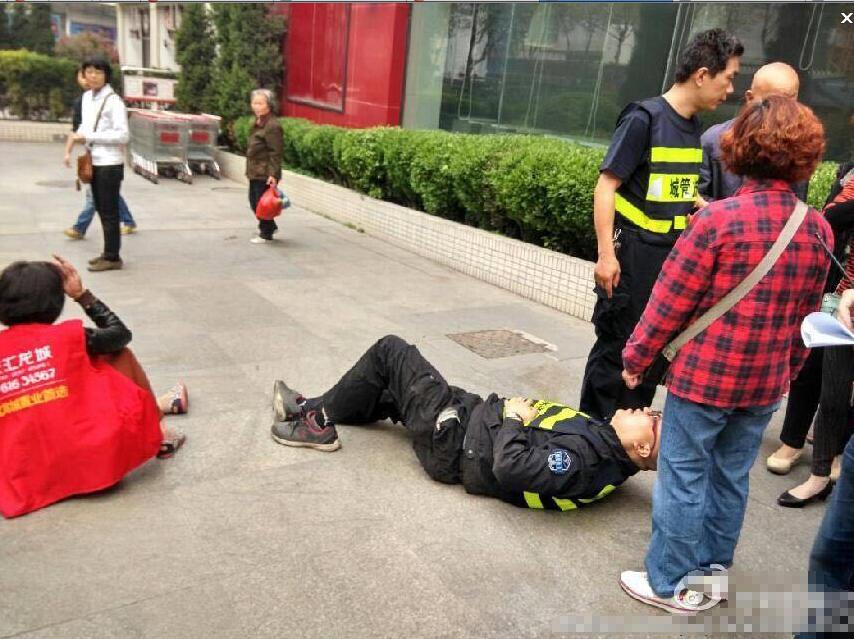bending: (1, 247, 221, 521)
down: (247, 330, 701, 516)
up: (606, 91, 844, 620), (567, 23, 755, 454), (54, 53, 145, 295), (215, 82, 292, 243)
